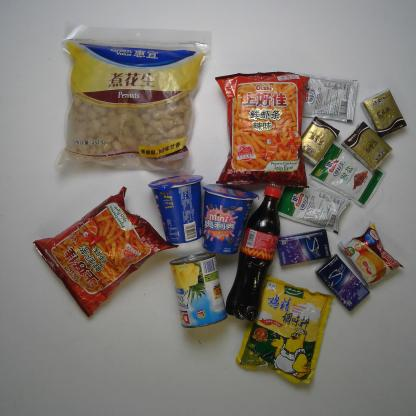Canned Food: (167, 250, 228, 330)
Dessert: (336, 219, 405, 290), (196, 183, 259, 254), (148, 173, 204, 245)
Dried Food: (51, 23, 216, 180)
Drink: (226, 184, 288, 322)
Gum: (316, 253, 370, 312), (276, 228, 332, 266)
Puffed Food: (33, 185, 182, 318), (210, 69, 313, 192)
Seasoner: (233, 272, 336, 386), (308, 139, 387, 209), (276, 179, 352, 234), (290, 71, 359, 124)
Tissue: (340, 120, 394, 172), (359, 87, 408, 140), (300, 116, 340, 166)
